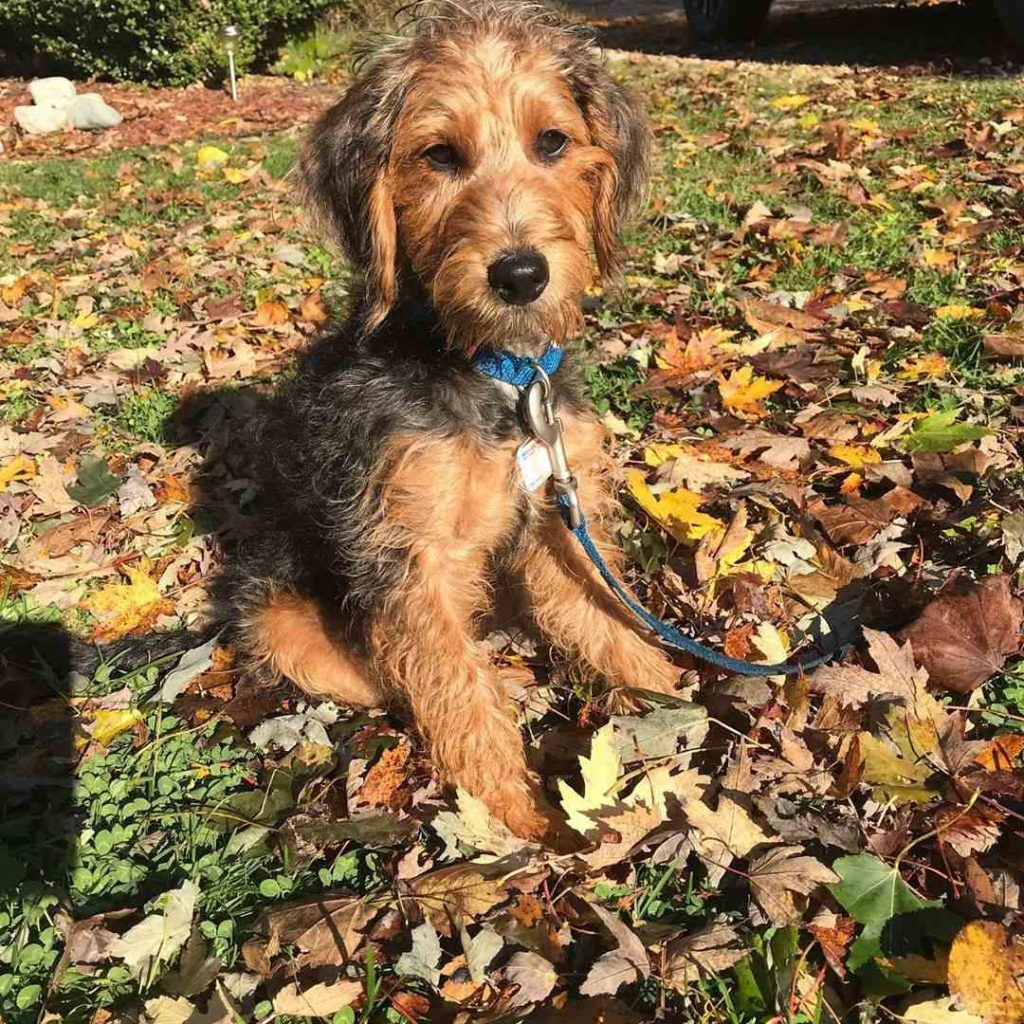dog: (175, 9, 771, 809)
